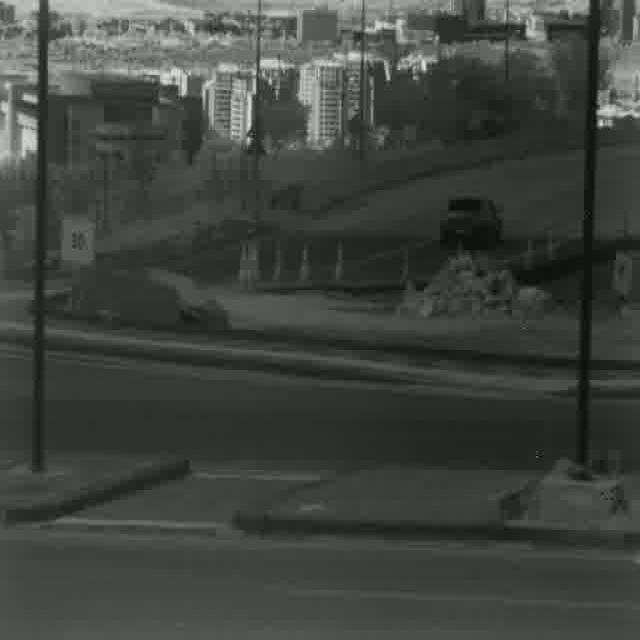Car: (438, 193, 507, 252)
